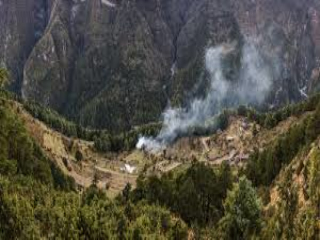smoke: (129, 46, 278, 151)
